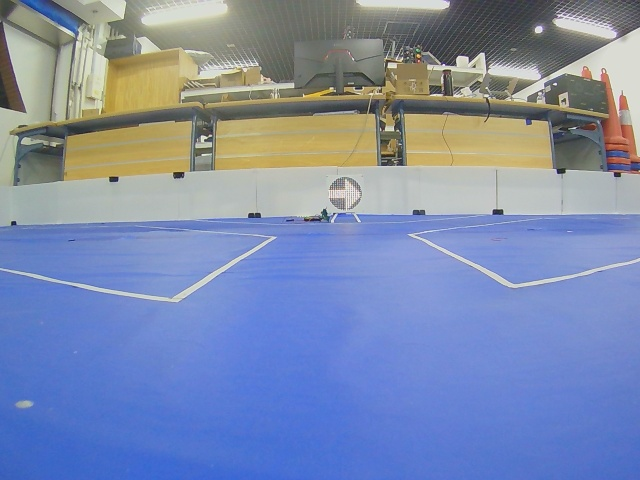right_yellow: (329, 177, 362, 211)
